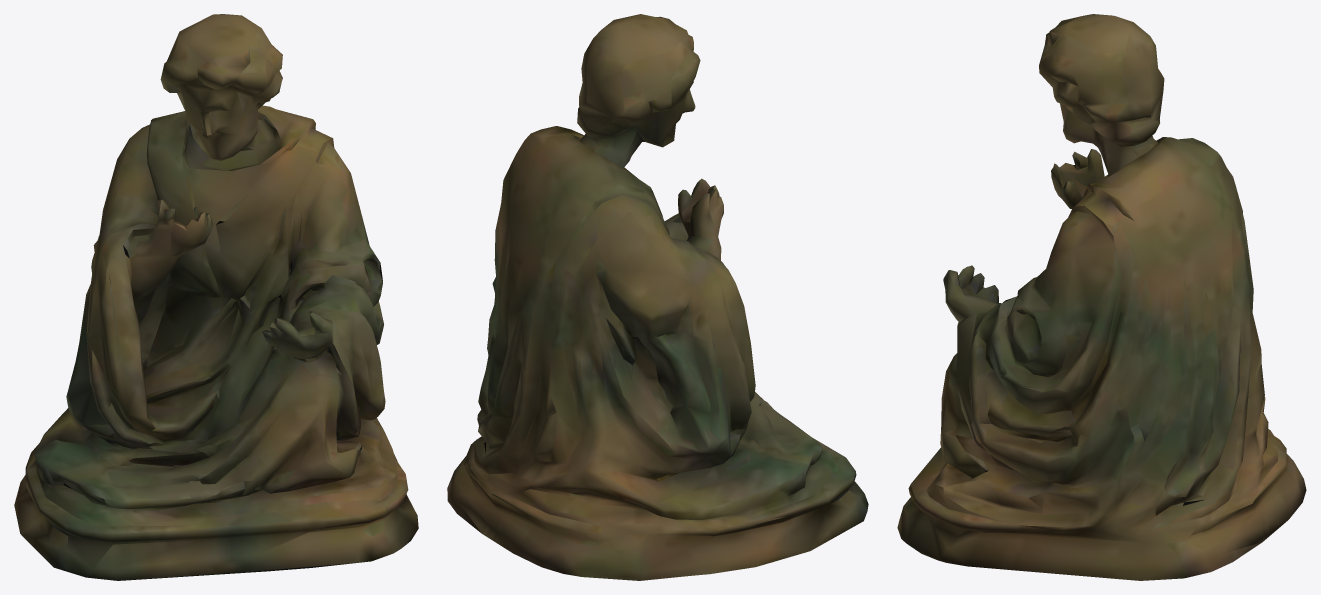
The model's file is weathered-bronze-statue-v001.glb.
3 renders of one model, left to right at view 1: azimuth 30°, elevation 25°; view 2: azimuth 150°, elevation 25°; view 3: azimuth 270°, elevation 25°, orthographic. The views are drawn at different scales.
Visible parts, largest first — view 1: weathered-bronze-statue; view 2: weathered-bronze-statue; view 3: weathered-bronze-statue.
Boxes of the visible parts, x1,y1,x2,y2 form: weathered-bronze-statue: (14,14,418,580); weathered-bronze-statue: (447,14,868,580); weathered-bronze-statue: (897,14,1306,580).
Bounding box in the file's own units: 1.03 × 1.32 × 1.01.
1 material, 1 textured.
